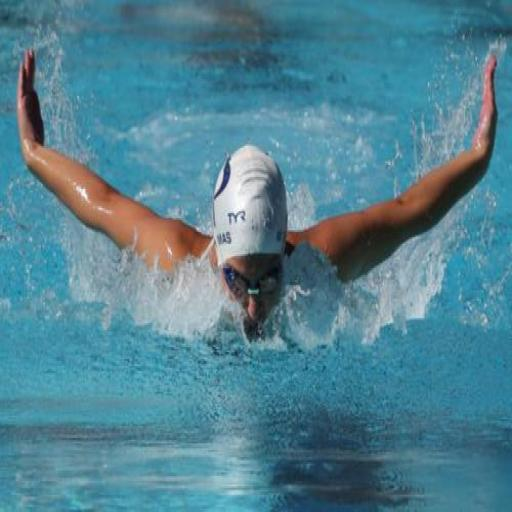swimming: (13, 43, 501, 349)
